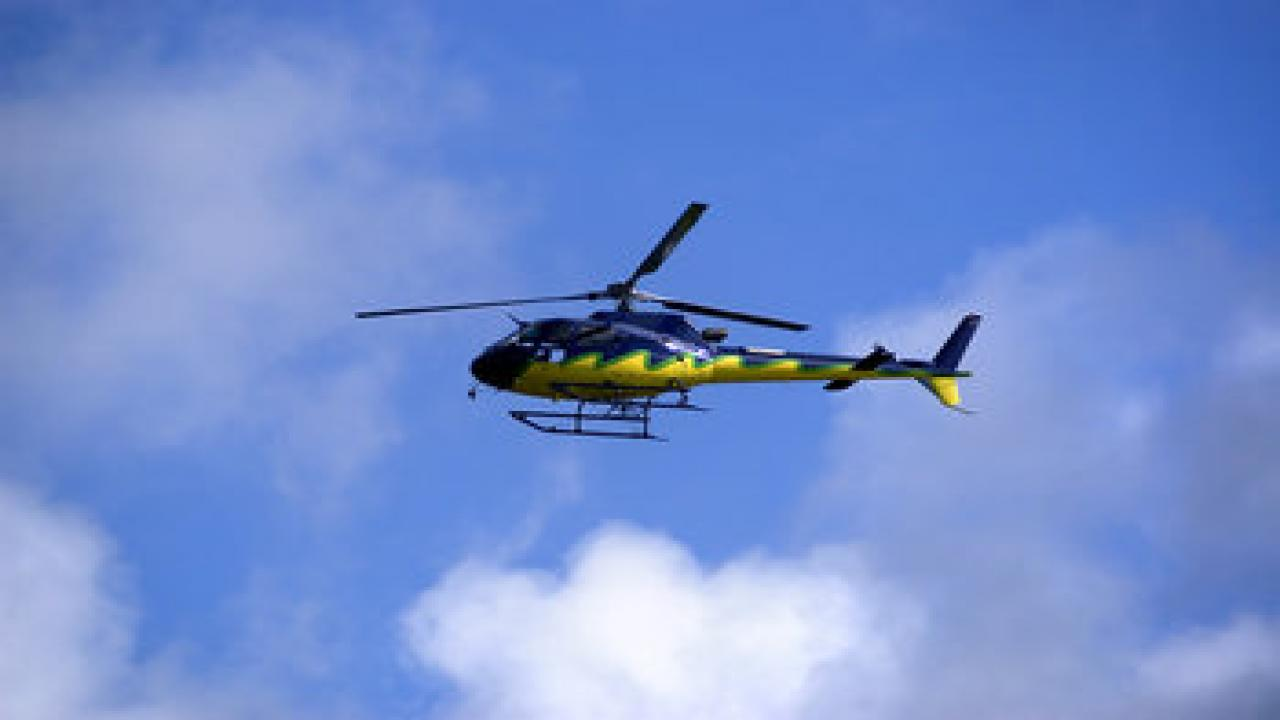Helicopter: (326, 168, 1012, 489)
